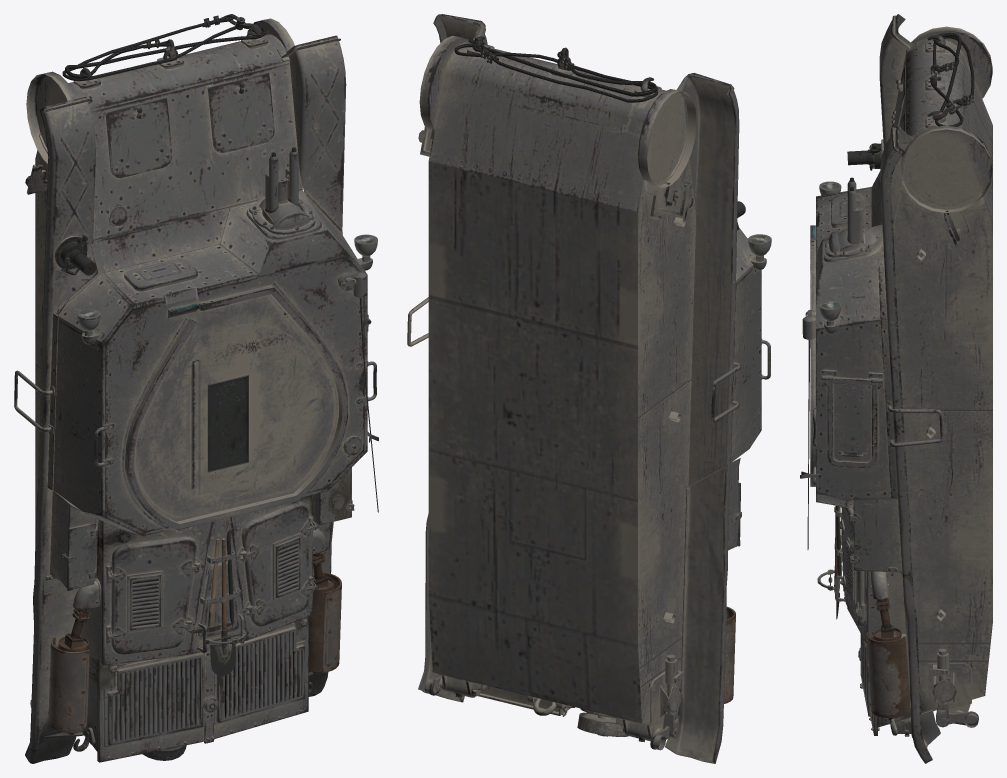
The model's file is Hull.glb.
The picture shows the model from 3 angles, left to right: view 1: azimuth 30°, elevation 25°; view 2: azimuth 150°, elevation 25°; view 3: azimuth 270°, elevation 25°; orthographic projection. The views are drawn at different scales.
Visible parts, largest first — view 1: set_0_group_0; view 2: set_0_group_0; view 3: set_0_group_0.
Boxes of the visible parts, x1=… form: set_0_group_0: x1=14, y1=14, x2=378, y2=763; set_0_group_0: x1=407, y1=14, x2=771, y2=763; set_0_group_0: x1=800, y1=14, x2=992, y2=763.
Bounding box in the file's own units: 2.32 × 5.01 × 1.36.
Materials: 1 (1 with a texture image).
